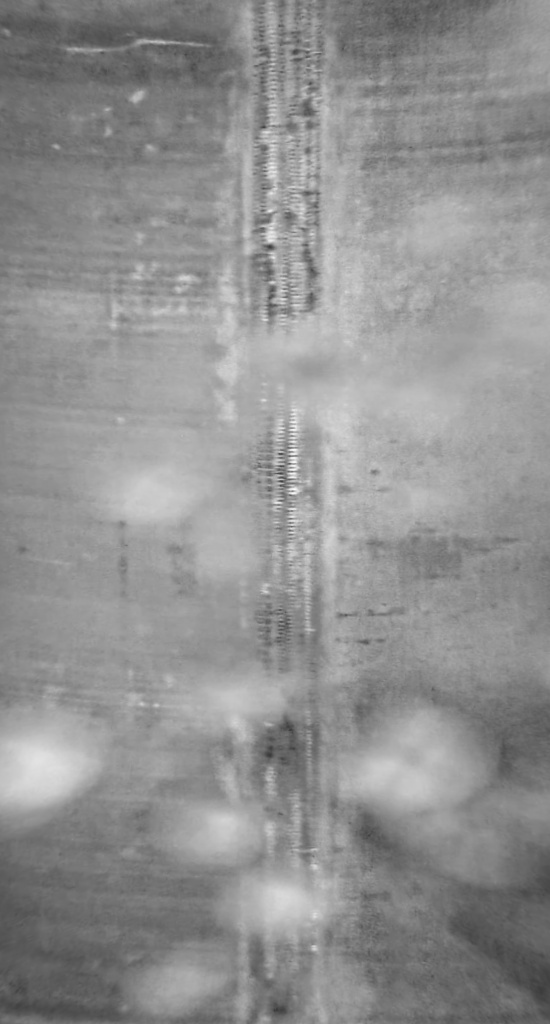splice: (234, 3, 331, 1024)
